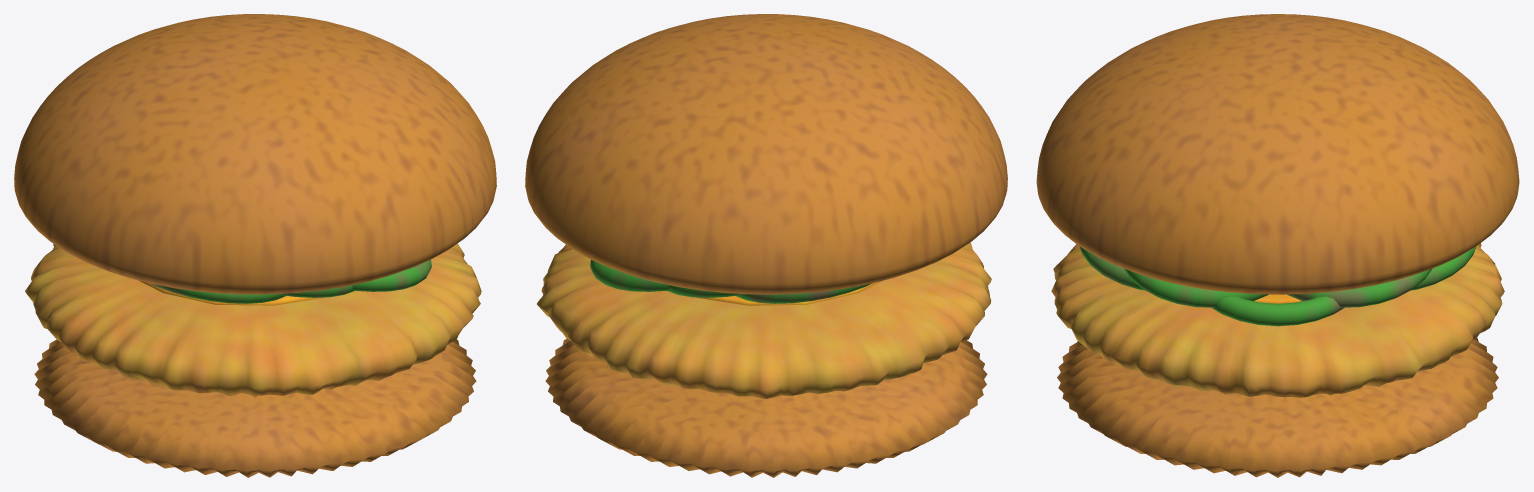
File: paneer-royale-burger-high.glb
3 renders of one model, left to right at view 1: azimuth 30°, elevation 25°; view 2: azimuth 150°, elevation 25°; view 3: azimuth 270°, elevation 25°, orthographic.
Visible parts, largest first — view 1: Mesh_Royale_Brioche_Buns, Mesh_Shahi_Paneer_Steak_Patty, Mesh_Pickled_Onion_And_Arugula, Mesh_Saffron_Makhani_Cheese_Melt; view 2: Mesh_Royale_Brioche_Buns, Mesh_Shahi_Paneer_Steak_Patty, Mesh_Pickled_Onion_And_Arugula, Mesh_Saffron_Makhani_Cheese_Melt; view 3: Mesh_Royale_Brioche_Buns, Mesh_Shahi_Paneer_Steak_Patty, Mesh_Pickled_Onion_And_Arugula.
Part boxes in pixels (x1,y1,x2,y2): Mesh_Royale_Brioche_Buns: [14, 14, 496, 477]; Mesh_Shahi_Paneer_Steak_Patty: [25, 243, 481, 397]; Mesh_Pickled_Onion_And_Arugula: [149, 259, 431, 303]; Mesh_Saffron_Makhani_Cheese_Melt: [139, 280, 326, 305]; Mesh_Royale_Brioche_Buns: [525, 14, 1007, 477]; Mesh_Shahi_Paneer_Steak_Patty: [537, 242, 991, 398]; Mesh_Pickled_Onion_And_Arugula: [590, 259, 872, 303]; Mesh_Saffron_Makhani_Cheese_Melt: [695, 280, 882, 305]; Mesh_Royale_Brioche_Buns: [1036, 14, 1519, 477]; Mesh_Shahi_Paneer_Steak_Patty: [1051, 243, 1504, 397]; Mesh_Pickled_Onion_And_Arugula: [1079, 246, 1476, 326].
Bounding box in the file's own units: 2 × 1.67 × 2.
4 materials, 4 textured.
